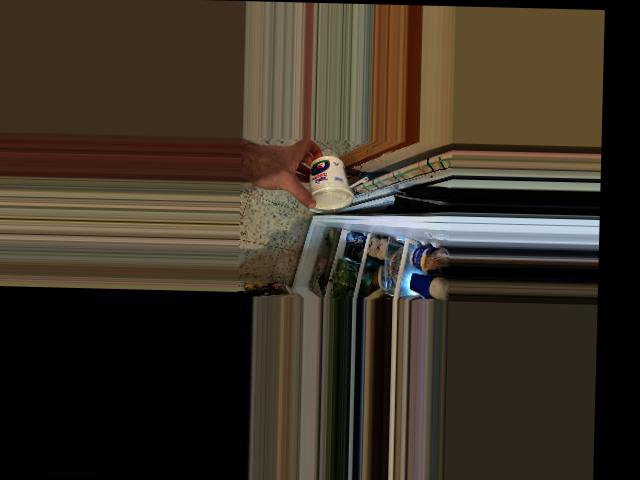cotage: (299, 153, 355, 212)
